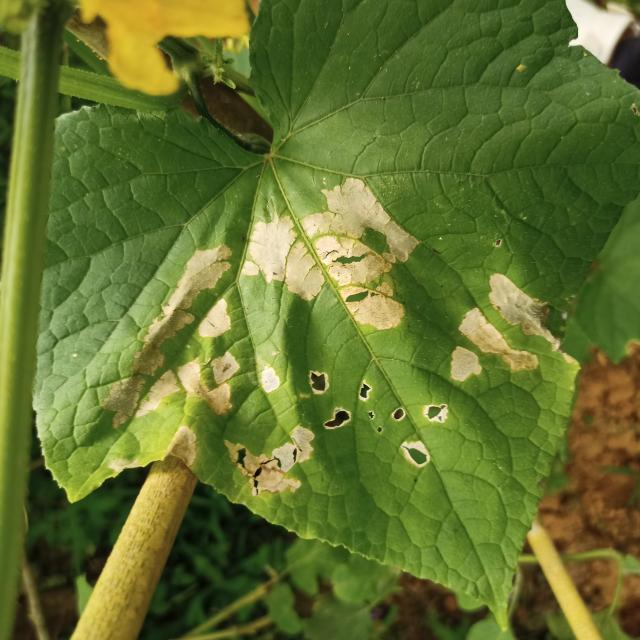disease_cucumber: (100, 178, 576, 497)
